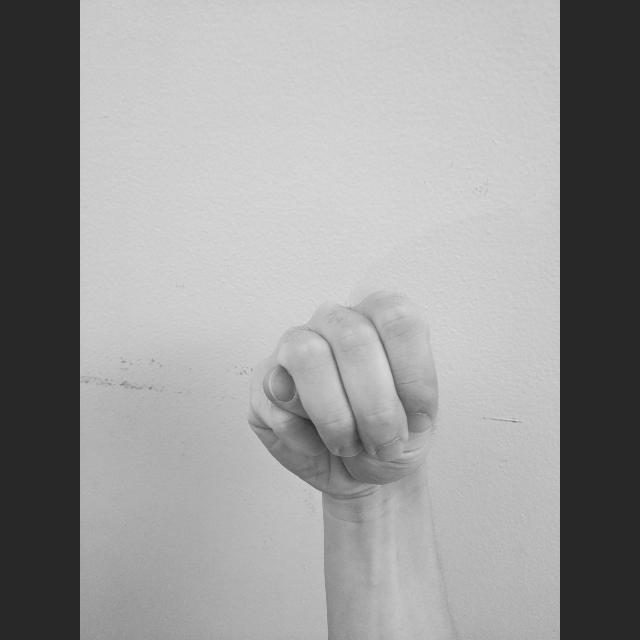M: (242, 286, 444, 498)
